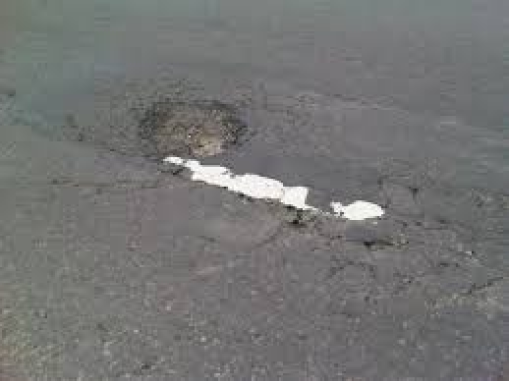Berlubang: (121, 88, 412, 238)
